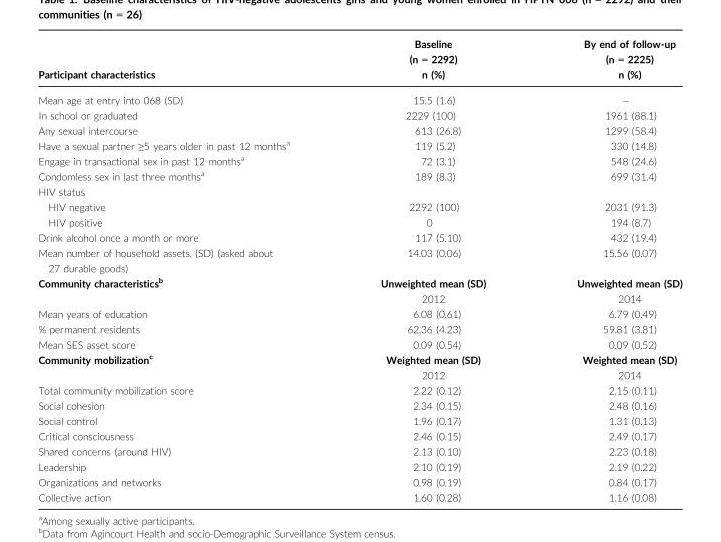table: (37, 37, 681, 502)
table column: (37, 37, 334, 502), (334, 37, 530, 502), (530, 37, 681, 502)
table column header: (37, 37, 681, 86)
table projected row header: (37, 183, 681, 198)
table row: (37, 37, 681, 86), (37, 350, 681, 382), (37, 274, 681, 305), (37, 244, 681, 274), (37, 86, 681, 107), (37, 136, 681, 152), (37, 167, 681, 183), (37, 198, 681, 214), (37, 305, 681, 321), (37, 412, 681, 428), (37, 473, 681, 489), (37, 107, 681, 122), (37, 152, 681, 167), (37, 183, 681, 198), (37, 214, 681, 229), (37, 229, 681, 244), (37, 321, 681, 336), (37, 382, 681, 397), (37, 397, 681, 412), (37, 428, 681, 443), (37, 443, 681, 458), (37, 458, 681, 473), (37, 122, 681, 136), (37, 336, 681, 350), (37, 489, 681, 502)
